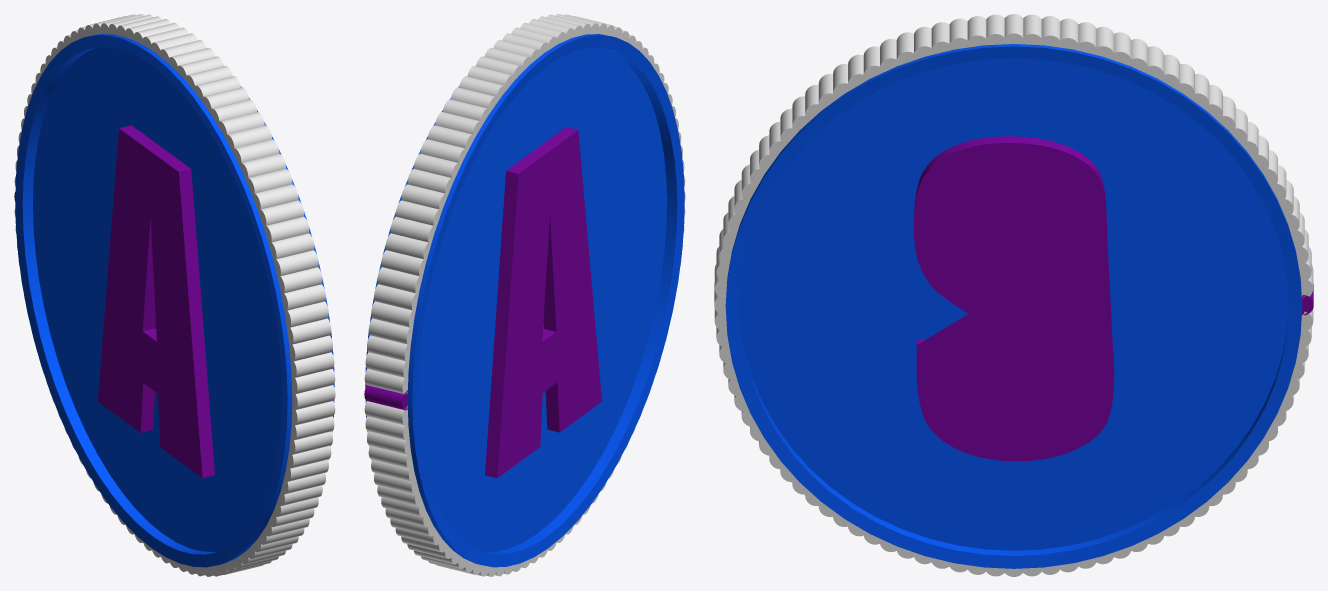
Rendered from SA_coin_GG.fbx.
3 renders of one model, left to right at view 1: azimuth 30°, elevation 25°; view 2: azimuth 150°, elevation 25°; view 3: azimuth 270°, elevation 25°, orthographic. The views are drawn at different scales.
Parts seen in each view (by area): view 1: Cylinder_1, A, Cylinder_1_58, Cylinder_1_57, Cylinder_1_59, Cylinder_1_56, Cylinder_1_60, Cylinder_1_61, Cylinder_1_55, Cylinder_1_54, Cylinder_1_62, Cylinder_1_53 (+27 smaller); view 2: Cylinder_1, A, Cylinder_1_91, Cylinder_1_93, Cylinder_1_90, Cylinder_1_92, Cylinder_1_94, Cylinder_1_89, Cylinder_1_95, Cylinder_1_96, Cylinder_1_88, Cylinder_1_87 (+27 smaller); view 3: Cylinder_1, S.
Boxes of the visible parts, left/top/right/bottom form: Cylinder_1: left=15, top=34, right=334, bottom=567; A: left=98, top=125, right=214, bottom=478; Cylinder_1_58: left=272, top=250, right=318, bottom=278; Cylinder_1_57: left=277, top=267, right=322, bottom=295; Cylinder_1_59: left=268, top=233, right=314, bottom=259; Cylinder_1_56: left=280, top=284, right=325, bottom=311; Cylinder_1_60: left=263, top=216, right=309, bottom=245; Cylinder_1_61: left=257, top=200, right=304, bottom=229; Cylinder_1_55: left=284, top=301, right=328, bottom=328; Cylinder_1_54: left=286, top=318, right=331, bottom=345; Cylinder_1_62: left=251, top=184, right=298, bottom=212; Cylinder_1_53: left=289, top=335, right=332, bottom=362; Cylinder_1: left=365, top=34, right=684, bottom=567; A: left=485, top=127, right=601, bottom=478; Cylinder_1_91: left=385, top=233, right=431, bottom=262; Cylinder_1_93: left=377, top=267, right=422, bottom=295; Cylinder_1_90: left=390, top=216, right=436, bottom=245; Cylinder_1_92: left=381, top=250, right=426, bottom=278; Cylinder_1_94: left=374, top=284, right=418, bottom=312; Cylinder_1_89: left=395, top=200, right=441, bottom=229; Cylinder_1_95: left=371, top=301, right=415, bottom=329; Cylinder_1_96: left=368, top=318, right=413, bottom=345; Cylinder_1_88: left=401, top=184, right=447, bottom=213; Cylinder_1_87: left=407, top=169, right=453, bottom=197; Cylinder_1: left=725, top=44, right=1302, bottom=568; S: left=913, top=136, right=1114, bottom=461.
Size of the model in its own units: 10.57 by 104 by 104.
